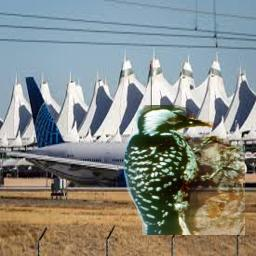Woodpecker: (124, 105, 245, 235)
